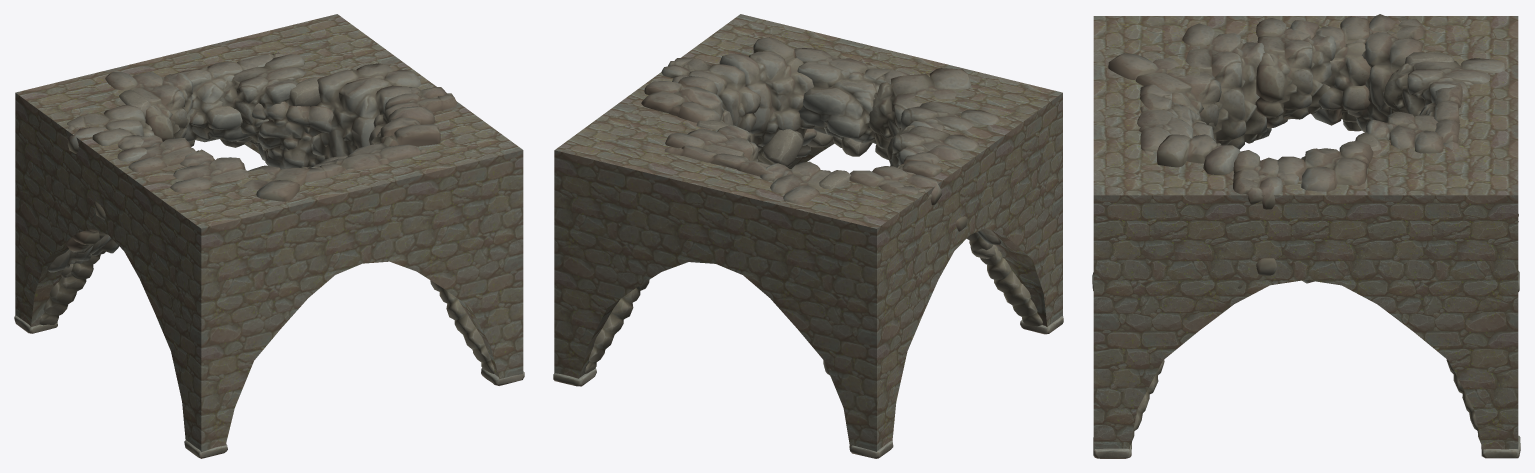
The model's file is SM_FW01_Ruins_Int_Ceiling_A_6x6_02.fbx.
3 renders of one model, left to right at view 1: azimuth 30°, elevation 25°; view 2: azimuth 150°, elevation 25°; view 3: azimuth 270°, elevation 25°, orthographic. The views are drawn at different scales.
Parts seen in each view (by area): view 1: SM_FW01_Ruins_Int_Ceiling_A_6x6_02, SM_FW01_Ruins_Int_Ceiling_A_6x6_02_LOD0; view 2: SM_FW01_Ruins_Int_Ceiling_A_6x6_02, SM_FW01_Ruins_Int_Ceiling_A_6x6_02_LOD0; view 3: SM_FW01_Ruins_Int_Ceiling_A_6x6_02, SM_FW01_Ruins_Int_Ceiling_A_6x6_02_LOD0.
Boxes of the visible parts, bbox=[...] form: SM_FW01_Ruins_Int_Ceiling_A_6x6_02: bbox=[15, 14, 523, 452]; SM_FW01_Ruins_Int_Ceiling_A_6x6_02_LOD0: bbox=[14, 52, 524, 458]; SM_FW01_Ruins_Int_Ceiling_A_6x6_02: bbox=[554, 14, 1062, 451]; SM_FW01_Ruins_Int_Ceiling_A_6x6_02_LOD0: bbox=[553, 37, 1063, 458]; SM_FW01_Ruins_Int_Ceiling_A_6x6_02: bbox=[1093, 16, 1518, 450]; SM_FW01_Ruins_Int_Ceiling_A_6x6_02_LOD0: bbox=[1092, 14, 1520, 458].
Size of what is drawn, in the model's own units: 6.12 by 4.37 by 6.06.
